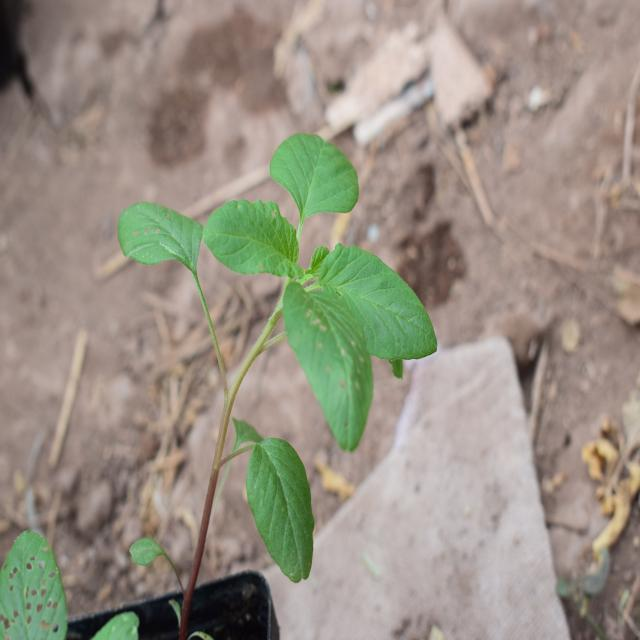pigweed: (136, 124, 438, 556)
